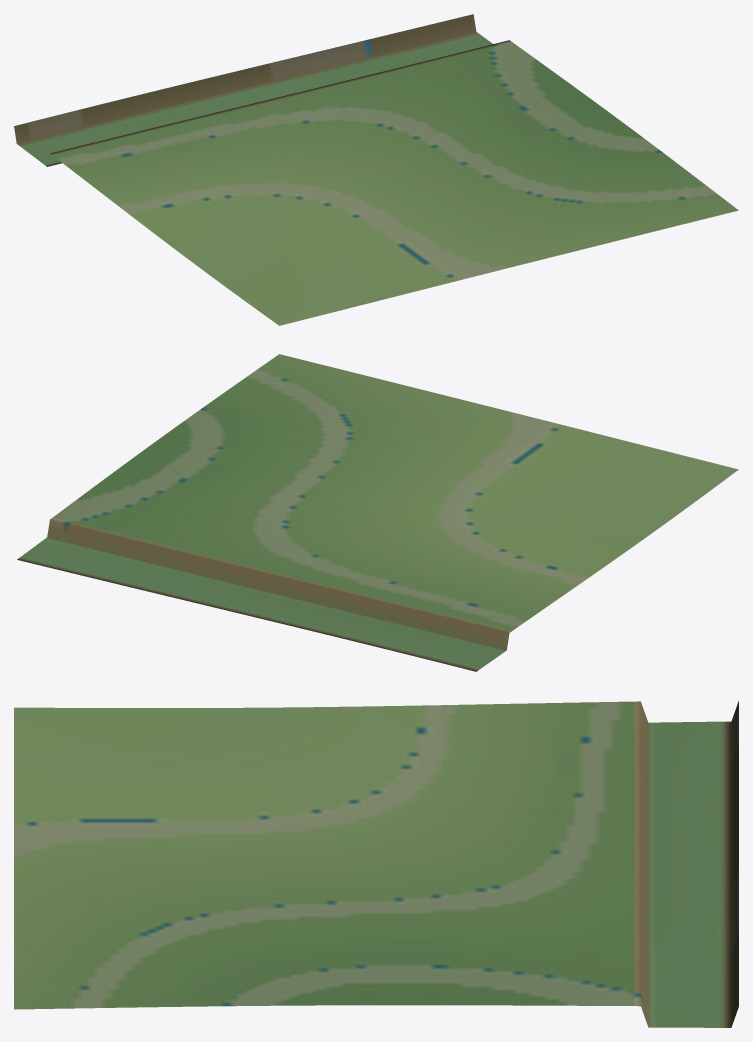
The model's file is terrain_T_E02_S02.glb.
3 views of the same model, one above another, from view 1: azimuth 30°, elevation 25°; view 2: azimuth 150°, elevation 25°; view 3: azimuth 270°, elevation 25° (orthographic). The views are drawn at different scales.
Parts seen in each view (by area): view 1: Terrain_T_E02_S02; view 2: Terrain_T_E02_S02; view 3: Terrain_T_E02_S02.
Boxes of the visible parts, bbox=[...] form: Terrain_T_E02_S02: bbox=[14, 14, 738, 325]; Terrain_T_E02_S02: bbox=[17, 354, 738, 671]; Terrain_T_E02_S02: bbox=[14, 701, 738, 1027].
Bounding box in the file's own units: 2000 × 72.57 × 2000.
Materials: 1 (1 with a texture image).
